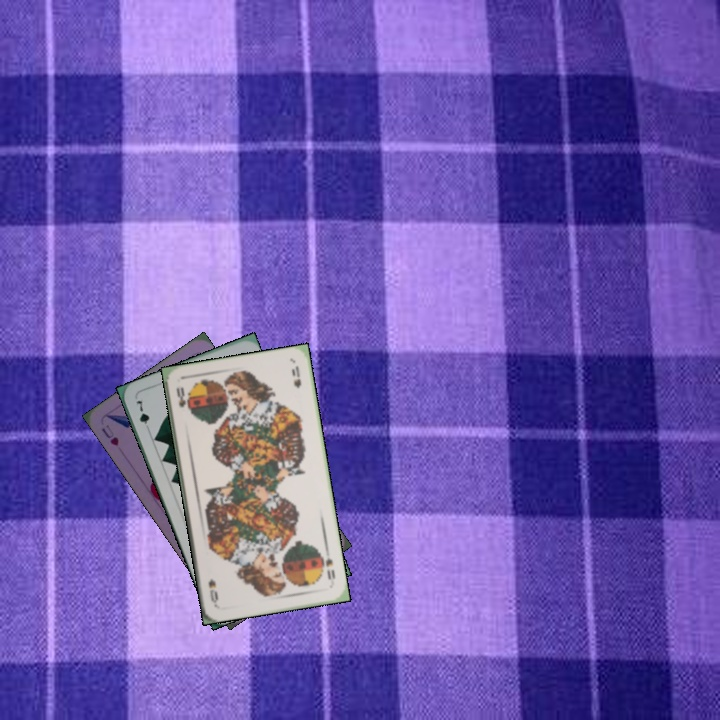G7: (132, 396, 153, 434)
HU: (97, 421, 122, 449)
SO: (172, 383, 191, 413), (321, 553, 338, 582)
